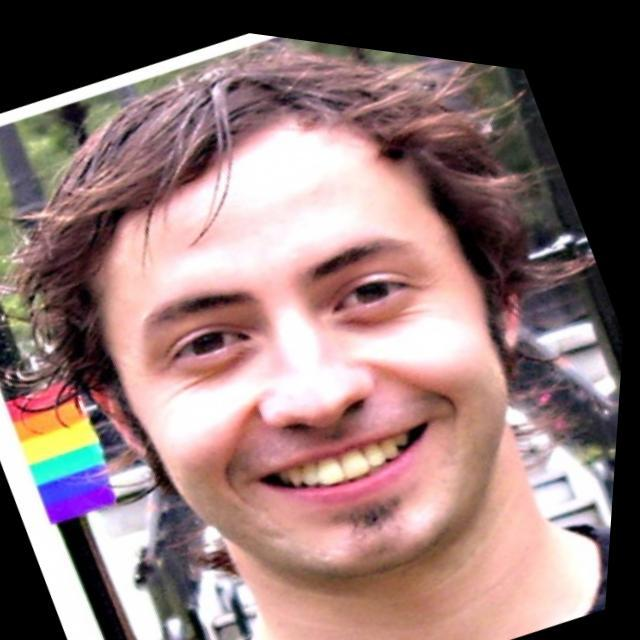Nonhelmet: (1, 40, 603, 586)
